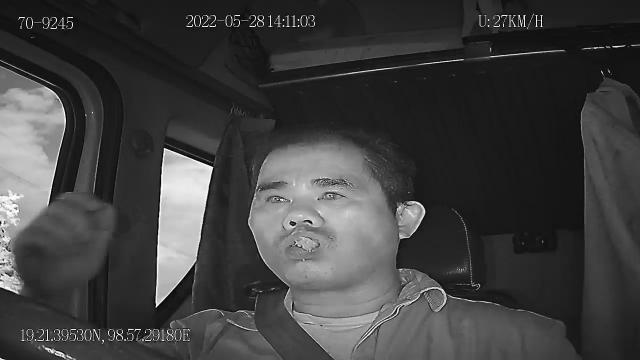SafeDriving: (310, 178, 354, 209), (258, 183, 296, 211)
Seatbelt: (235, 276, 342, 360)
